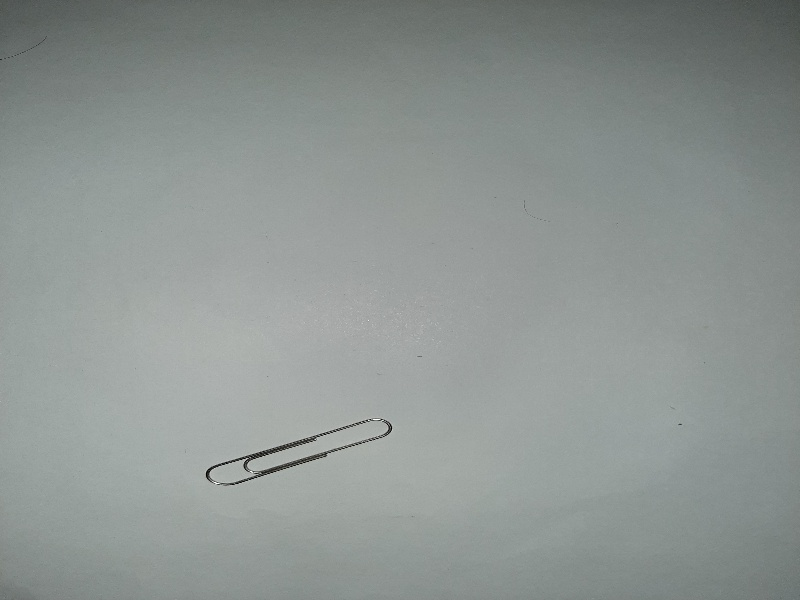Big Jumpclip: (198, 414, 393, 486)
